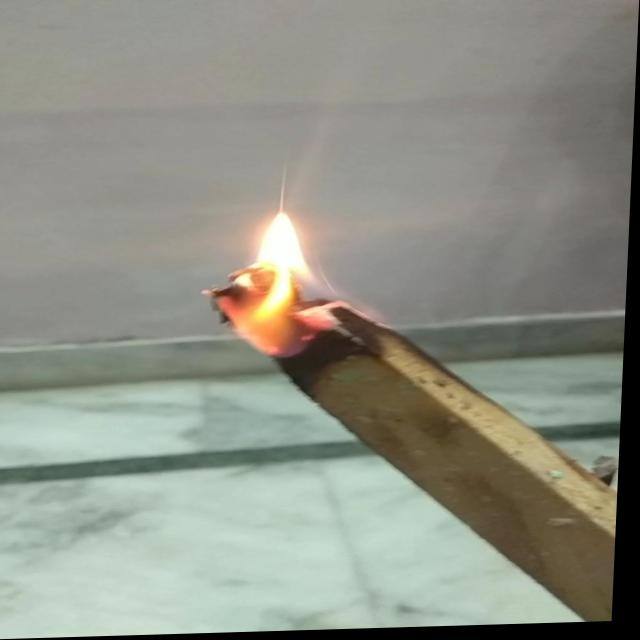fire: (183, 200, 382, 366)
